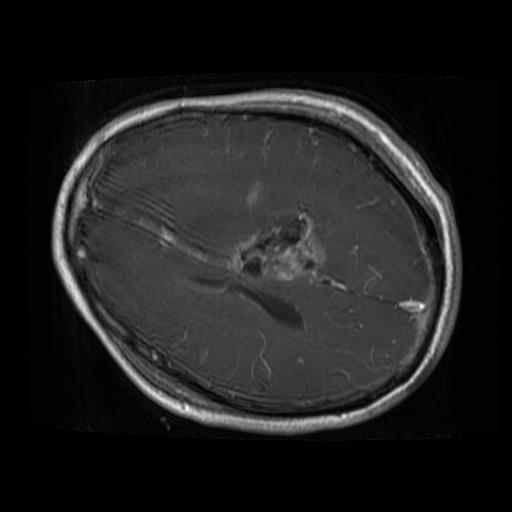glioma: (227, 211, 325, 284)
